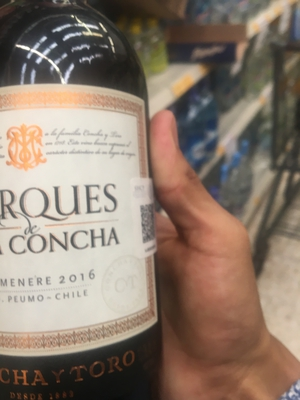marques de casa concha carmenere: (2, 33, 168, 400)
